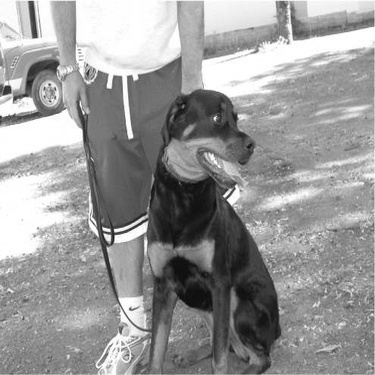dog: (135, 83, 286, 372)
